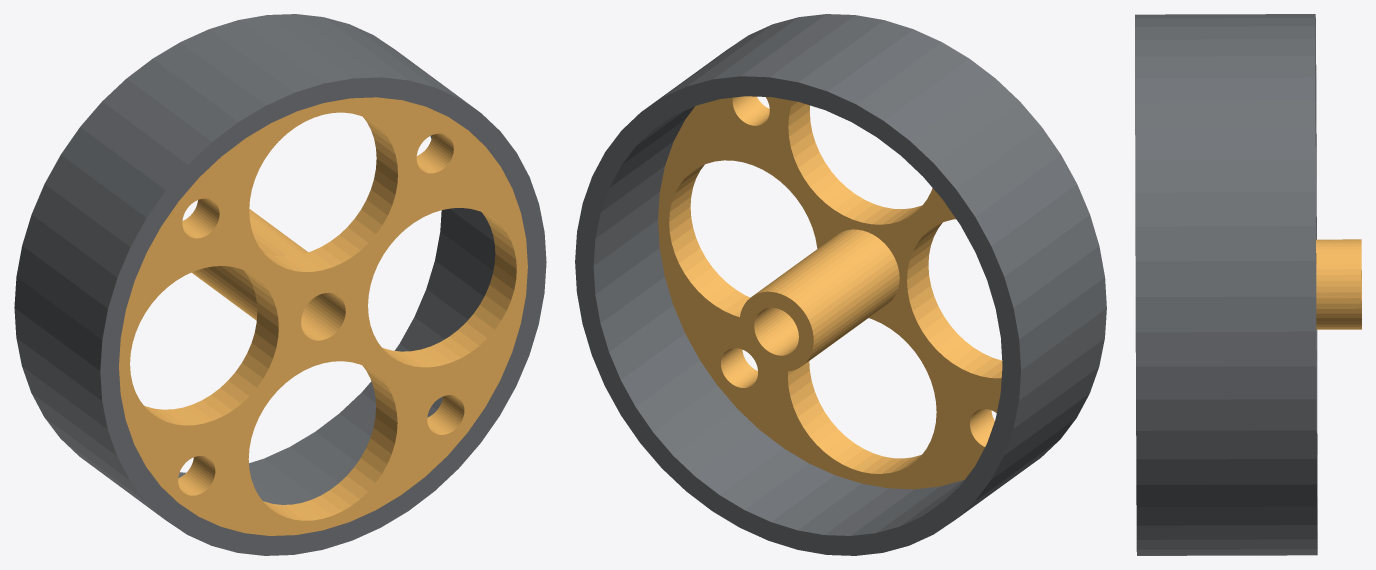
The model's file is RWheel.dae.
3 renders of one model, left to right at view 1: azimuth 30°, elevation 25°; view 2: azimuth 150°, elevation 25°; view 3: azimuth 270°, elevation 25°, orthographic. The views are drawn at different scales.
Parts seen in each view (by area): view 1: obj_0.002; view 2: obj_0.002; view 3: obj_0.002.
Boxes of the visible parts, x1,y1,x2,y2 form: obj_0.002: [14, 14, 546, 555]; obj_0.002: [575, 14, 1106, 555]; obj_0.002: [1135, 14, 1361, 555].
Bounding box in the file's own units: 0.06 × 0.0251 × 0.0601.
